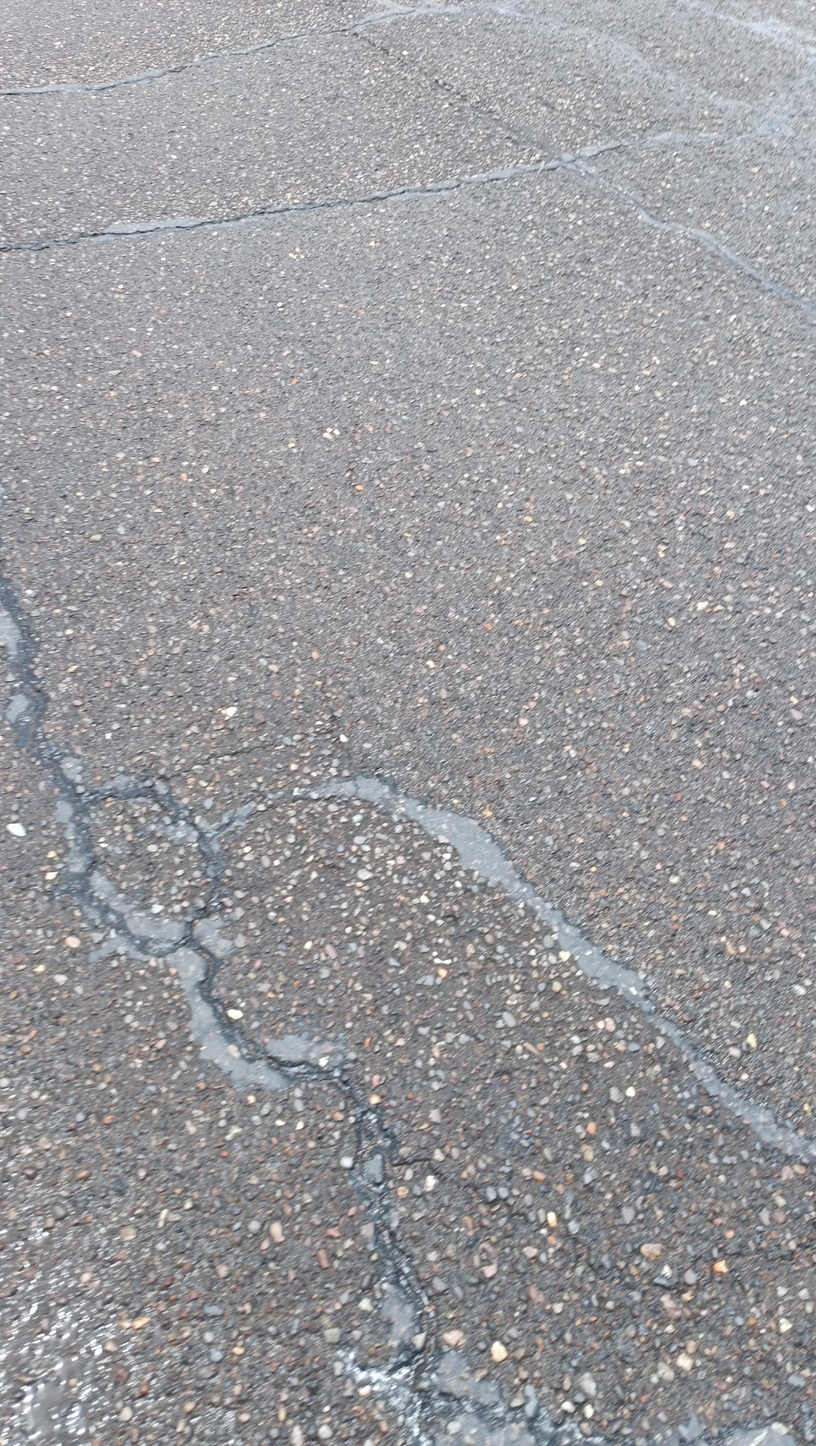GRIETA: (316, 775, 816, 1161), (183, 938, 442, 1399), (0, 588, 179, 958), (1, 165, 564, 253), (572, 162, 816, 314), (350, 31, 562, 161), (0, 29, 347, 96), (92, 787, 219, 936), (393, 1157, 531, 1229), (351, 9, 420, 28), (587, 145, 629, 159)
